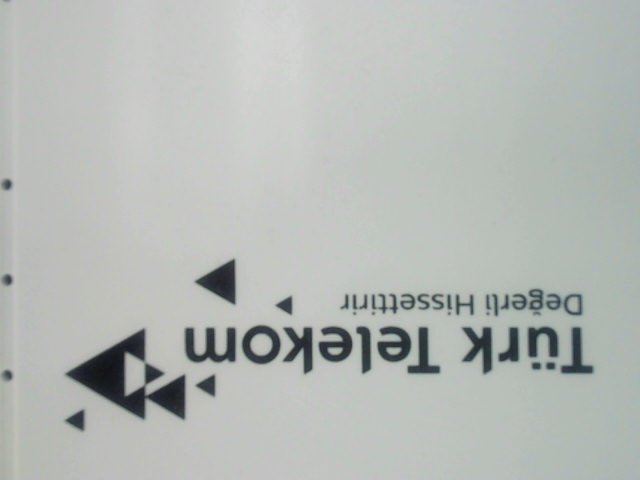AQ_TURKTelekom: (48, 250, 599, 438)
